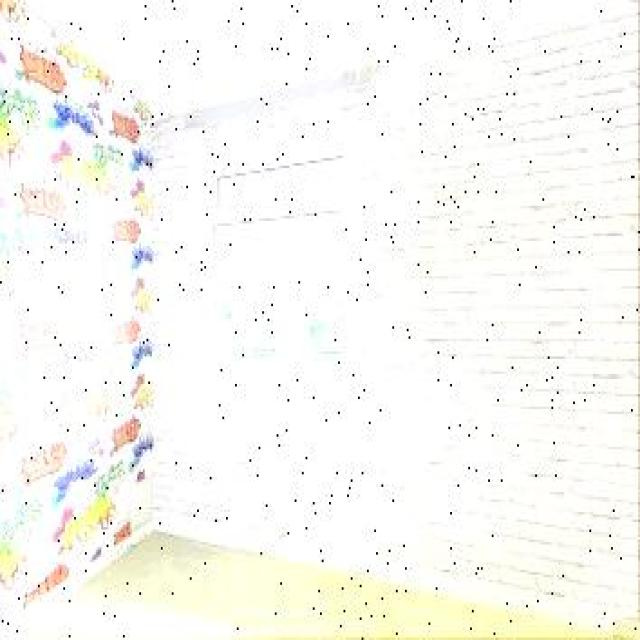Wall: (154, 5, 640, 617), (0, 1, 154, 635), (28, 0, 620, 115), (20, 533, 613, 640), (160, 65, 390, 143), (186, 75, 376, 128)
